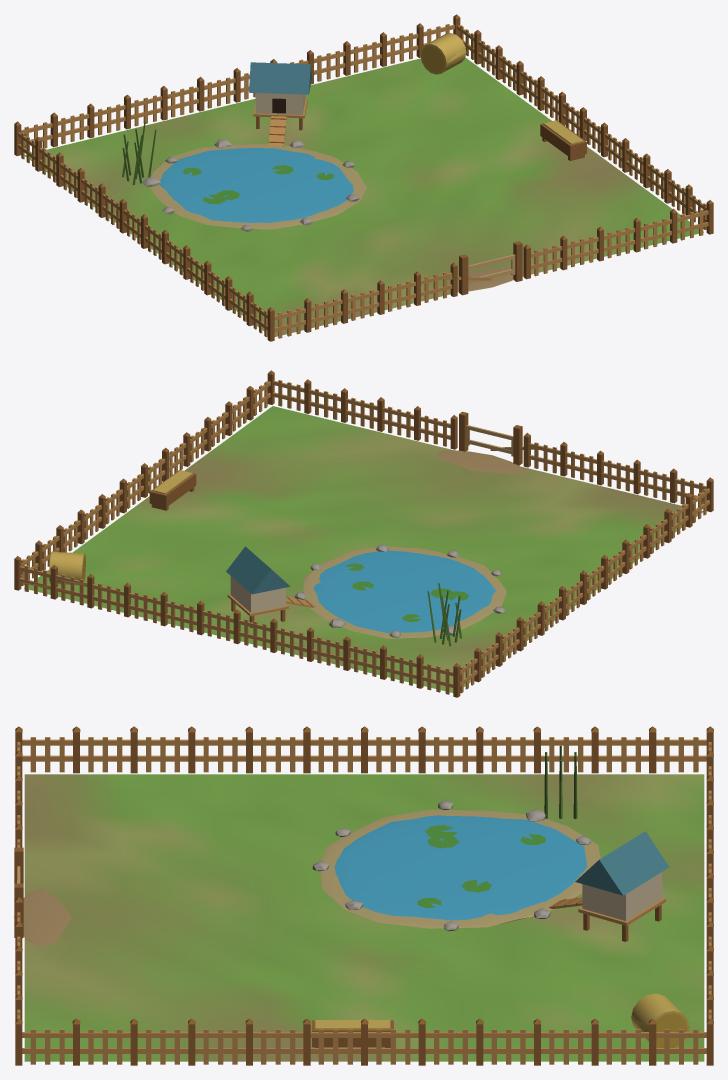
The model's file is duck_pond-g2.glb.
3 renders of one model, top to bottom at view 1: azimuth 30°, elevation 25°; view 2: azimuth 150°, elevation 25°; view 3: azimuth 270°, elevation 25°, orthographic. The views are drawn at different scales.
Parts seen in each view (by area): view 1: home-duck_pond-g2, home-duck_pond-g2-far; view 2: home-duck_pond-g2, home-duck_pond-g2-far; view 3: home-duck_pond-g2, home-duck_pond-g2-far.
Part boxes in pixels (x1,y1,x2,y2): home-duck_pond-g2: (14,14,713,341); home-duck_pond-g2-far: (59,26,713,341); home-duck_pond-g2: (14,370,713,697); home-duck_pond-g2-far: (14,382,640,697); home-duck_pond-g2: (14,726,713,1065); home-duck_pond-g2-far: (15,732,713,1065).
Size of the model in its own units: 11.93 by 1.59 by 11.95.
